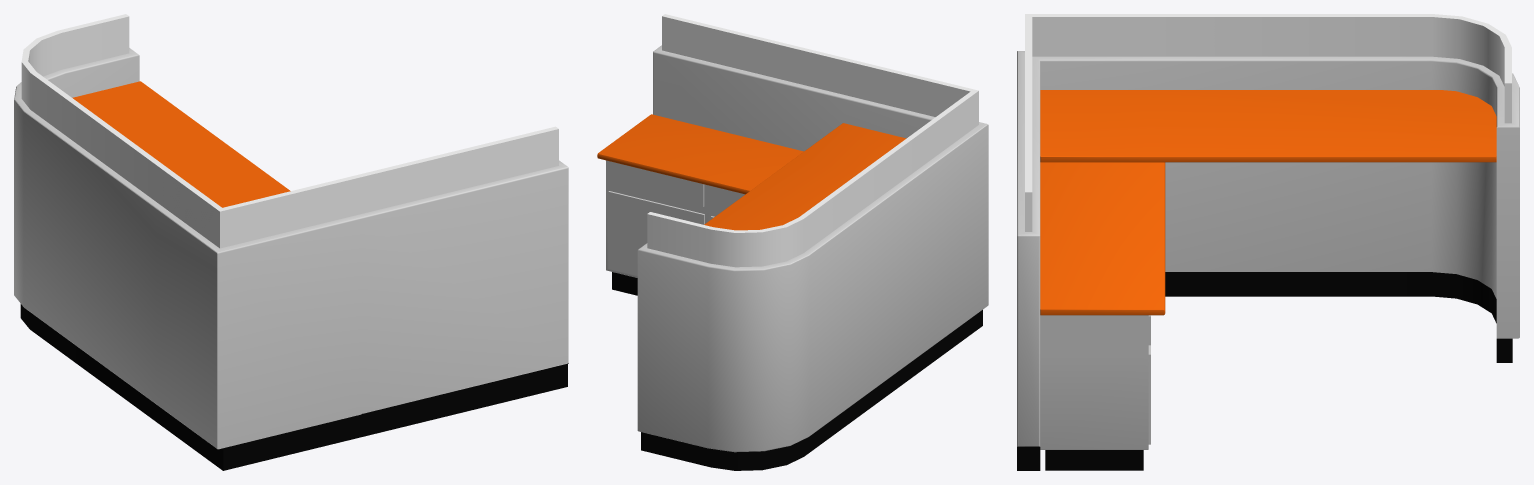
File: desk_1_mirror.glb
3 renders of one model, left to right at view 1: azimuth 30°, elevation 25°; view 2: azimuth 150°, elevation 25°; view 3: azimuth 270°, elevation 25°, orthographic. The views are drawn at different scales.
Parts seen in each view (by area): view 1: Office Paritions Desk; view 2: Office Paritions Desk; view 3: Office Paritions Desk.
Part boxes in pixels (x1,y1,x2,y2): Office Paritions Desk: [14, 14, 568, 470]; Office Paritions Desk: [597, 14, 988, 470]; Office Paritions Desk: [1017, 14, 1519, 470].
Size of the model in its own units: 1.54 by 1.07 by 1.76.
